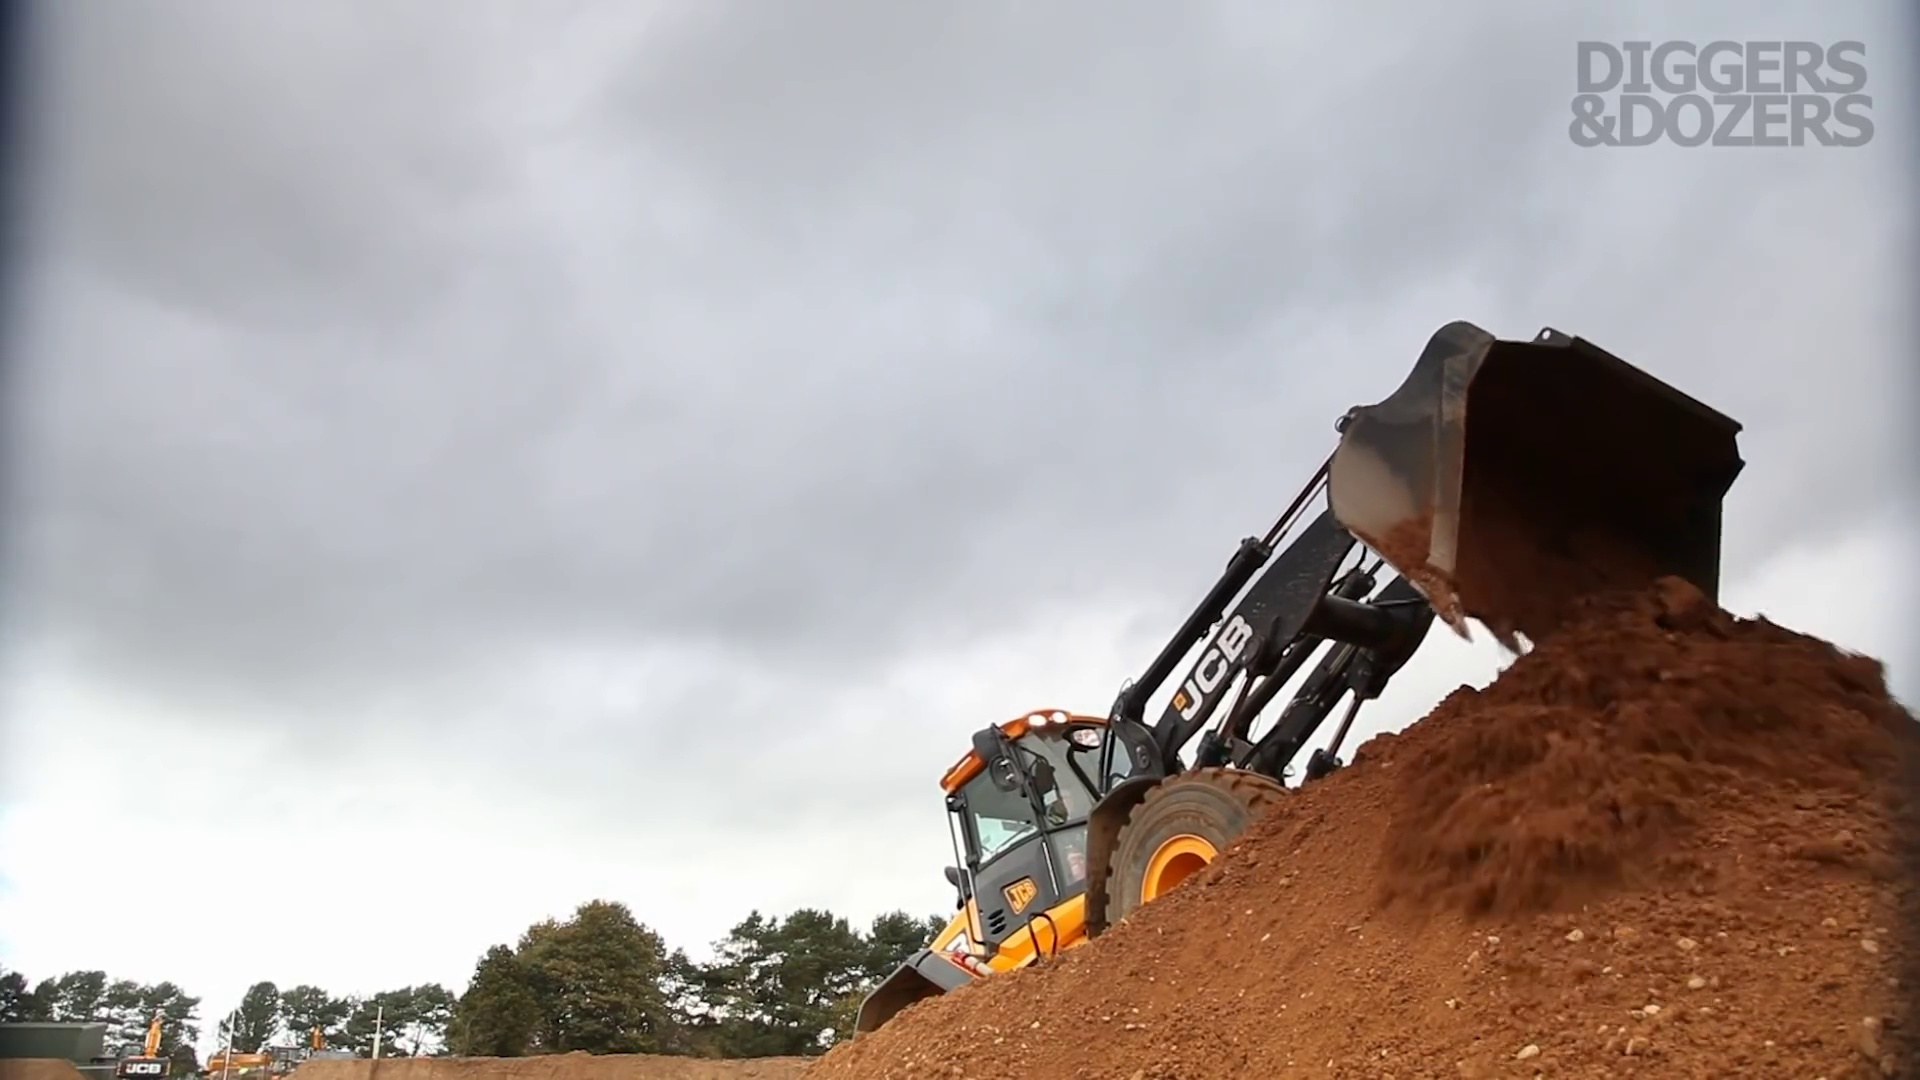wheel loader: (848, 319, 1745, 1073)
